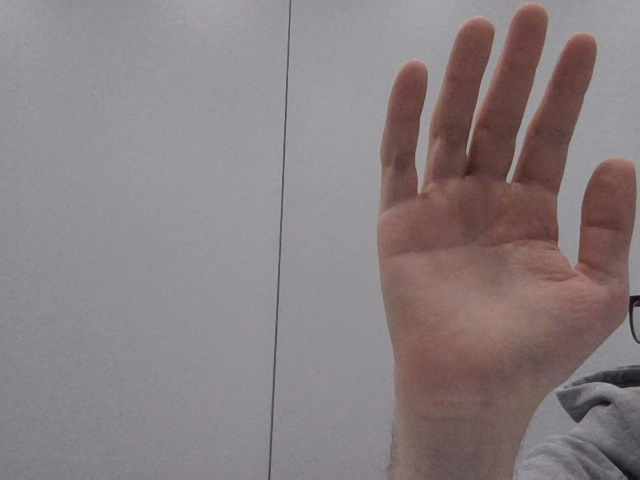nada: (343, 4, 640, 422)
